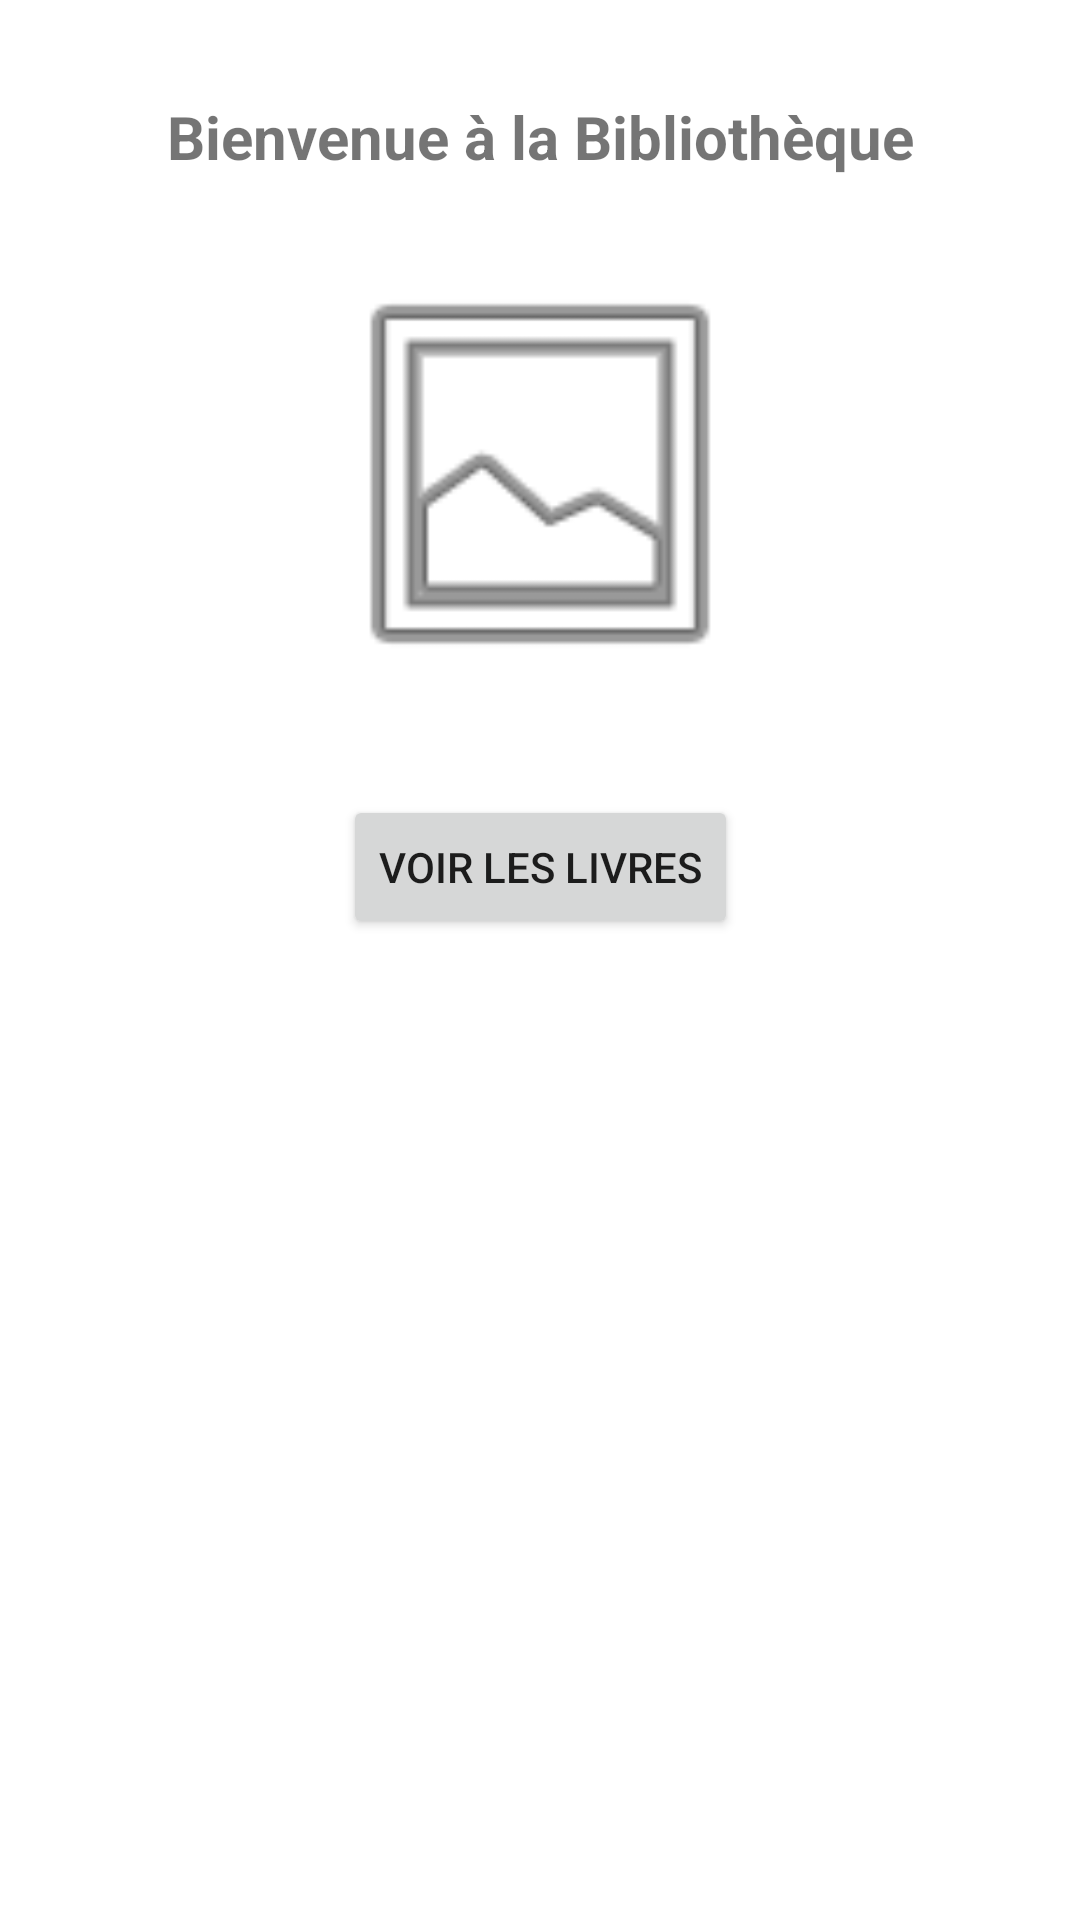

Where icons sit on this 1080*1920 app screen, as (x1, y1, x2, y2):
gallery: (370, 304, 710, 644)
